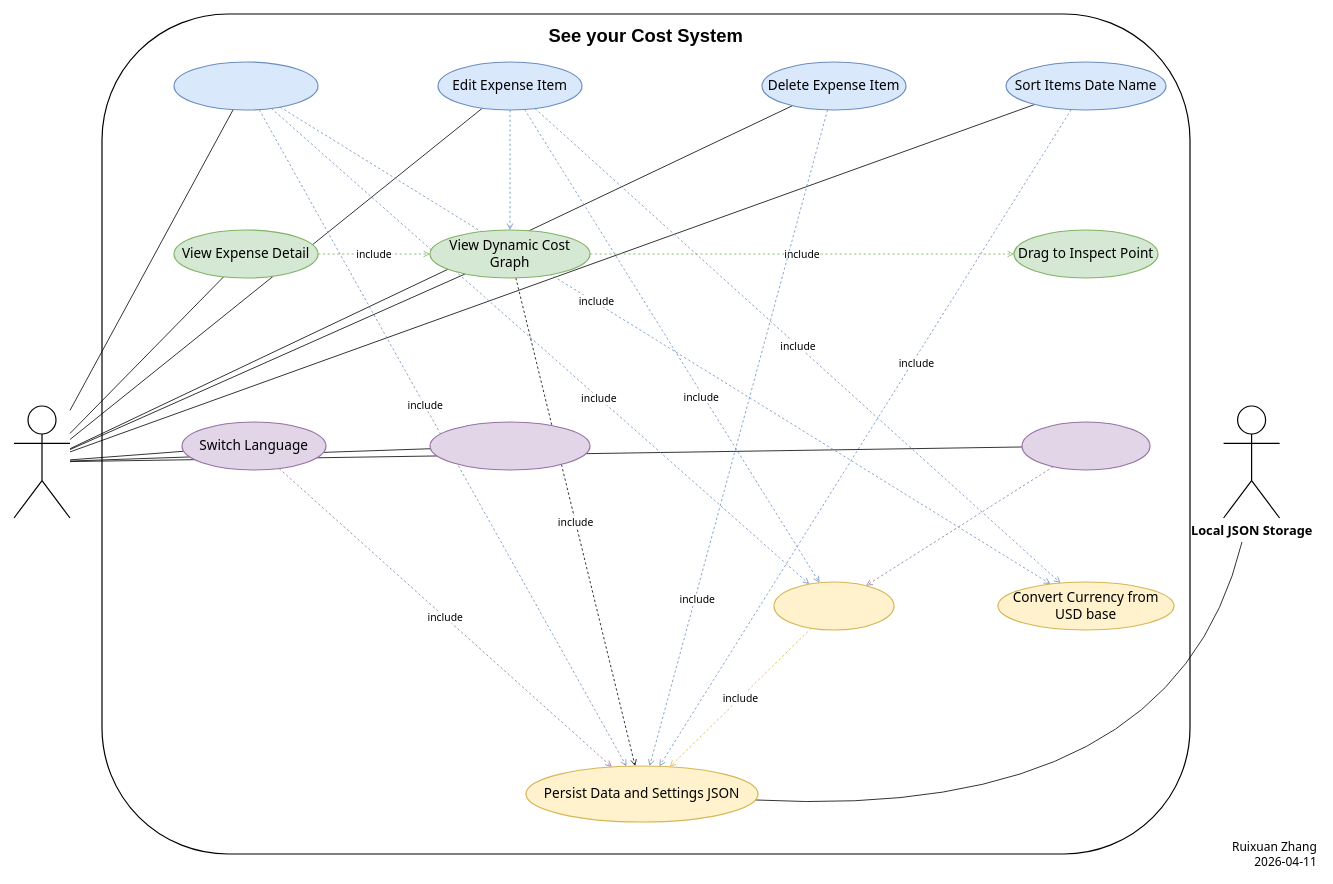
This 1333x884 diagram has some shape labels left out. The centre of each missing label's shape, as x and y in pixels:
"Add Expense Item" belongs at point 245,85.
"Change Theme Accent" belongs at point 509,445.
"Switch Currency" belongs at point 1085,445.
"User" belongs at point 41,461.
"Validate Input" belongs at point 833,605.
